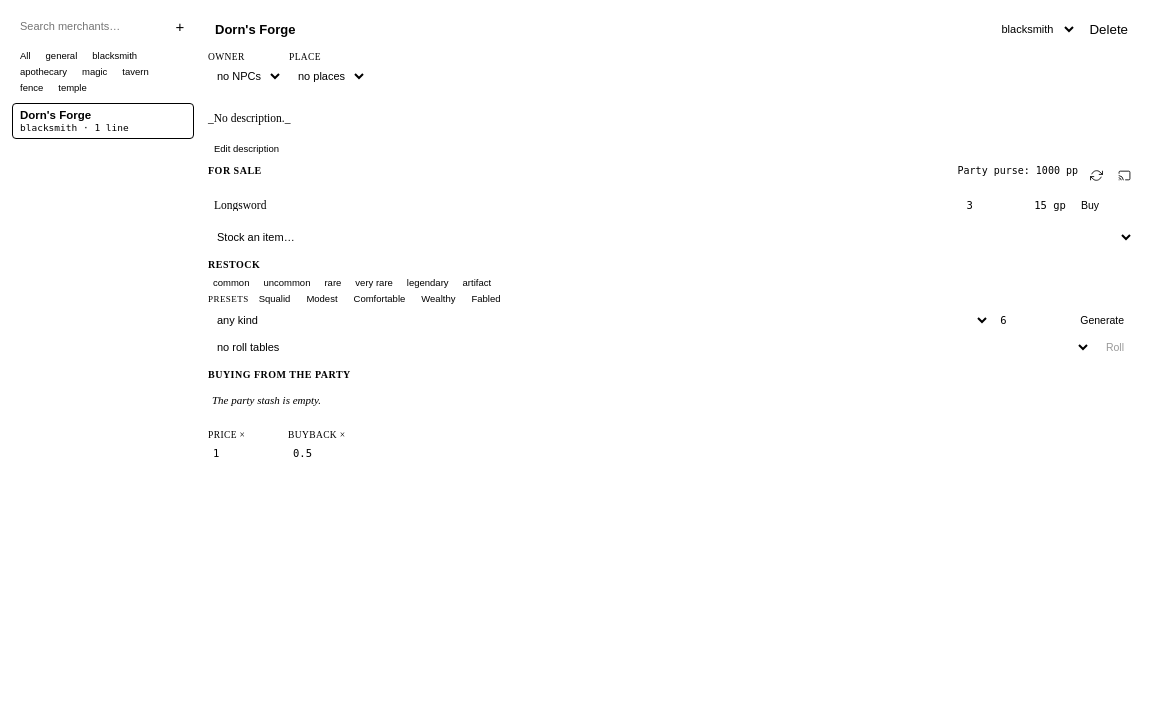
Merchants - reading a shelf item › closes again on a second click
Click the button "Longsword": (240, 205) [214,199,932,211]
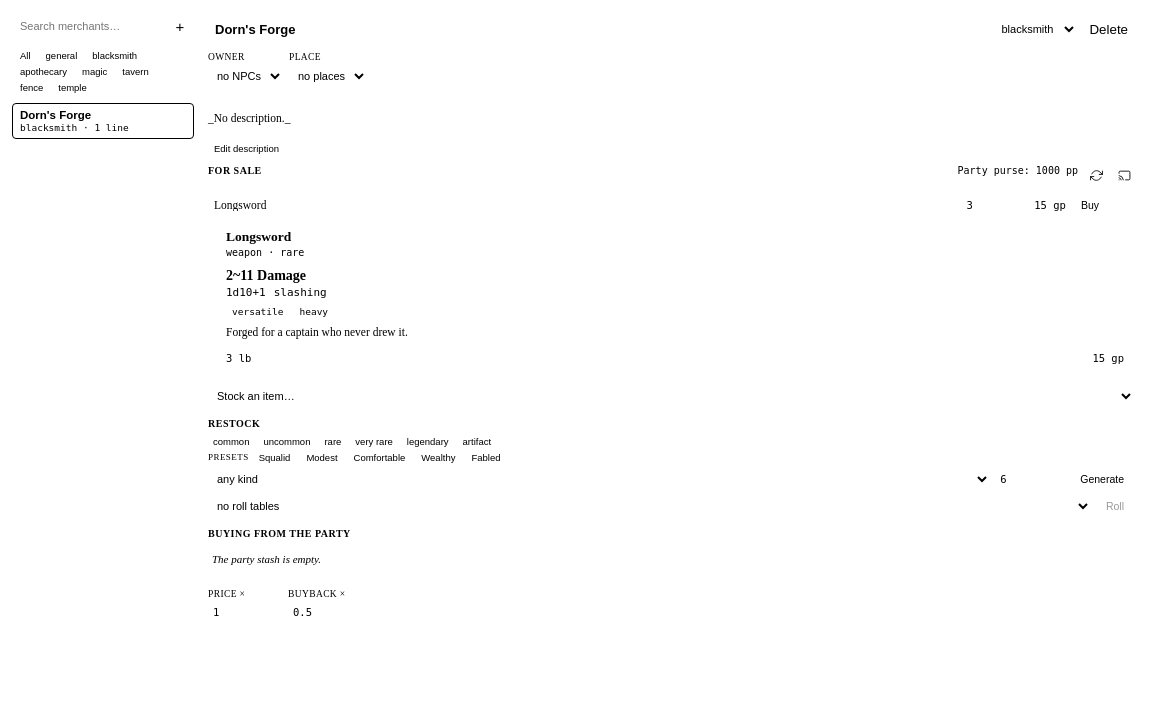
Click the button "Longsword": (240, 205) [214,199,932,211]
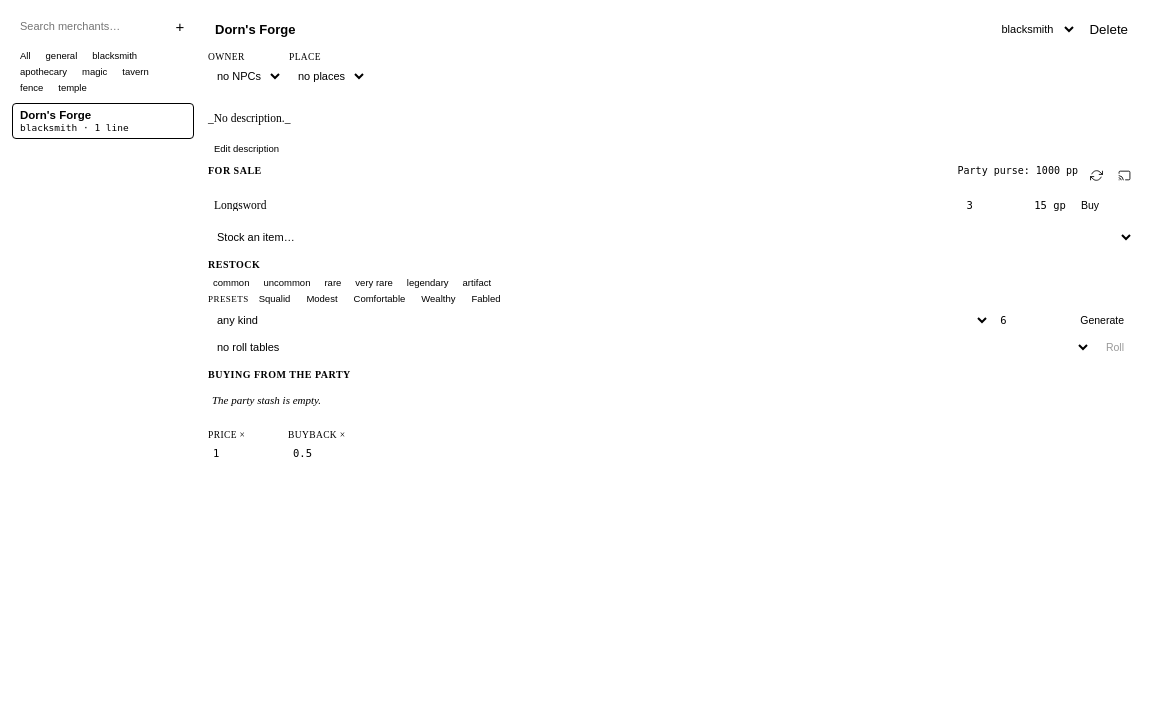
Check: the text "never drew it" is gone
